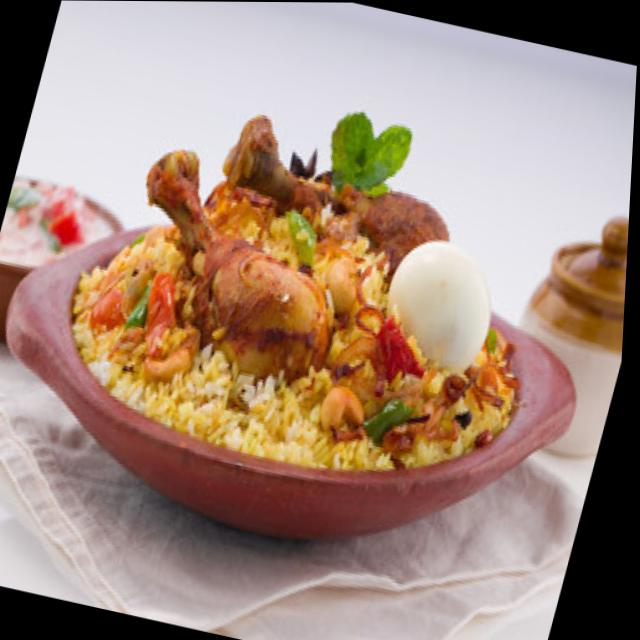BIRIYANI: (72, 132, 518, 469)
EGG: (385, 240, 492, 371)
